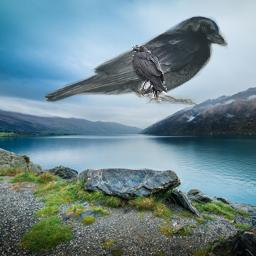Crow: (43, 15, 228, 105), (132, 45, 167, 101)
